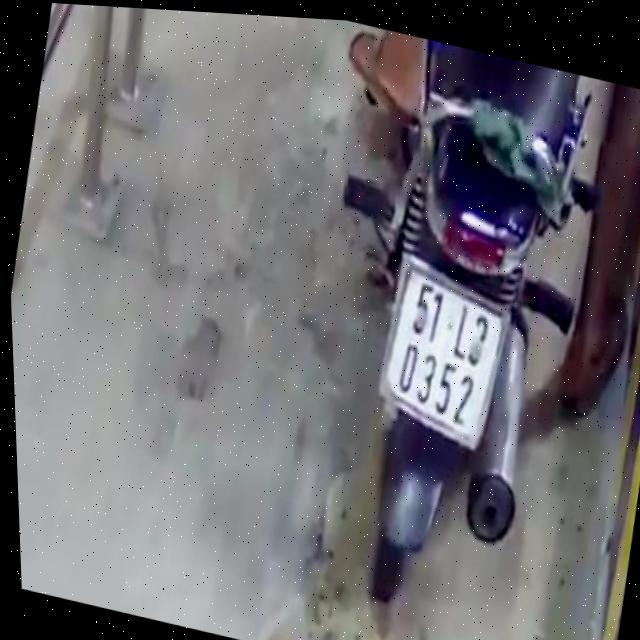motorcycle: (265, 19, 632, 640)
plate: (359, 246, 532, 462)
